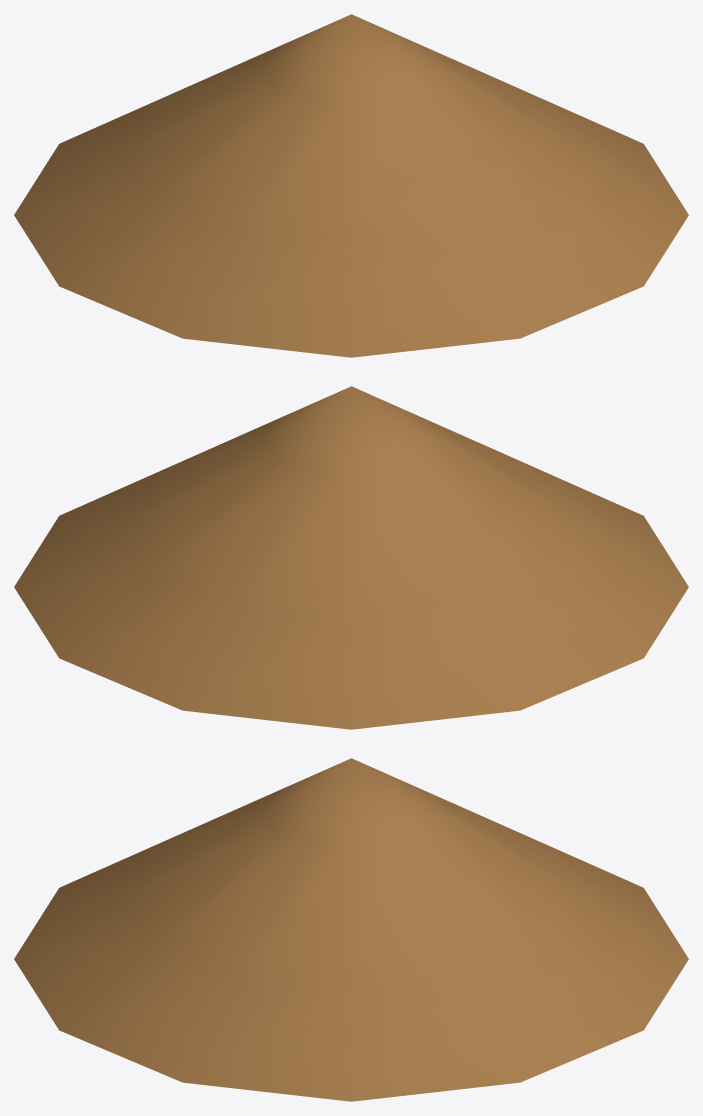
File: cone_hat_1_lvl.fbx
3 renders of one model, top to bottom at view 1: azimuth 30°, elevation 25°; view 2: azimuth 150°, elevation 25°; view 3: azimuth 270°, elevation 25°, orthographic.
Visible parts, largest first — view 1: cone_hat_1_lvl; view 2: cone_hat_1_lvl; view 3: cone_hat_1_lvl.
Part boxes in pixels (x1,y1,x2,y2): cone_hat_1_lvl: (14, 14, 688, 357); cone_hat_1_lvl: (14, 386, 688, 729); cone_hat_1_lvl: (14, 758, 688, 1101).
Size of the model in its own units: 107 by 35.07 by 107.
